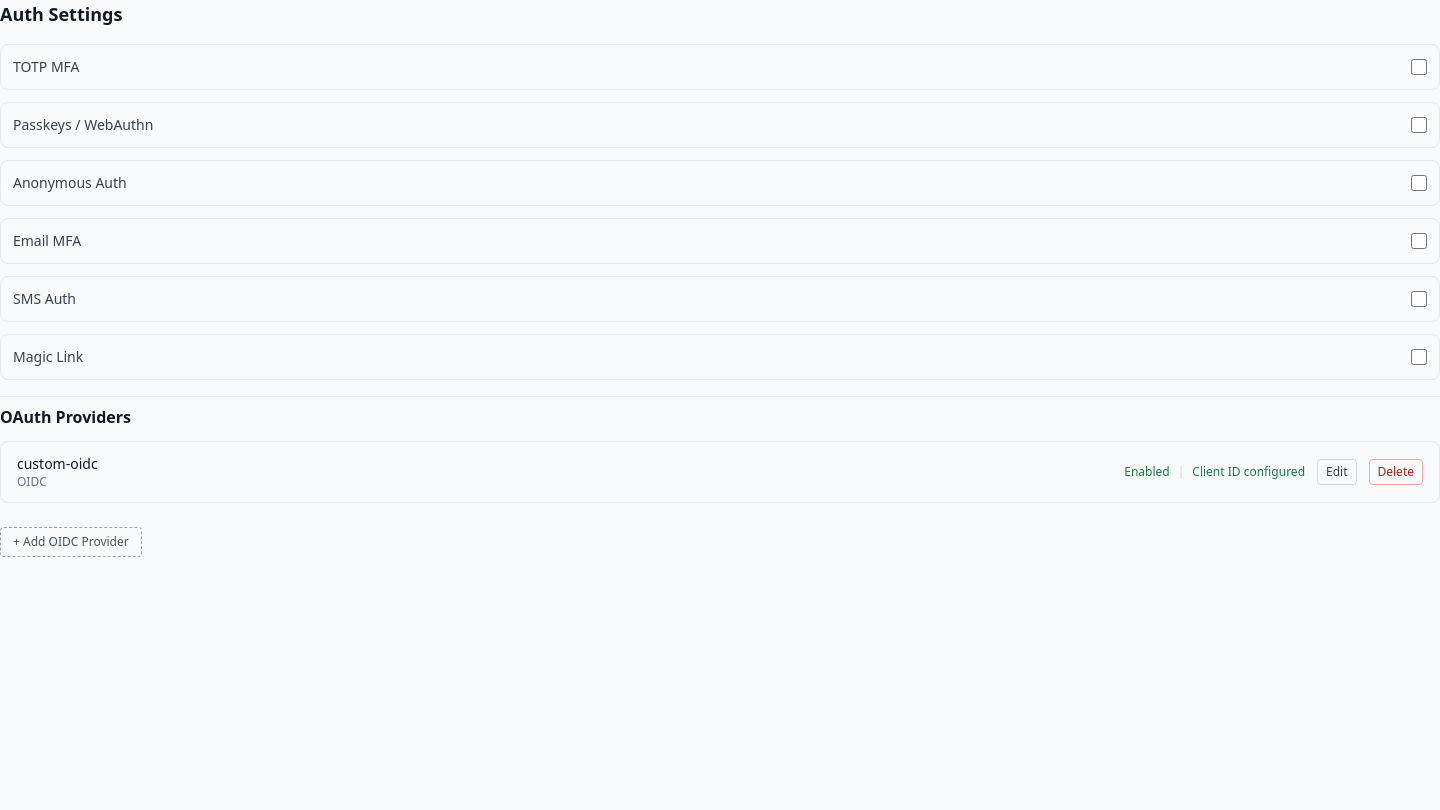
Test case: AuthSettings OIDC deletion › failed delete shows error and keeps row
Click the button with test id "provider-delete-custom-oidc". click: (1396, 472)
box: [1368,459,1423,485]
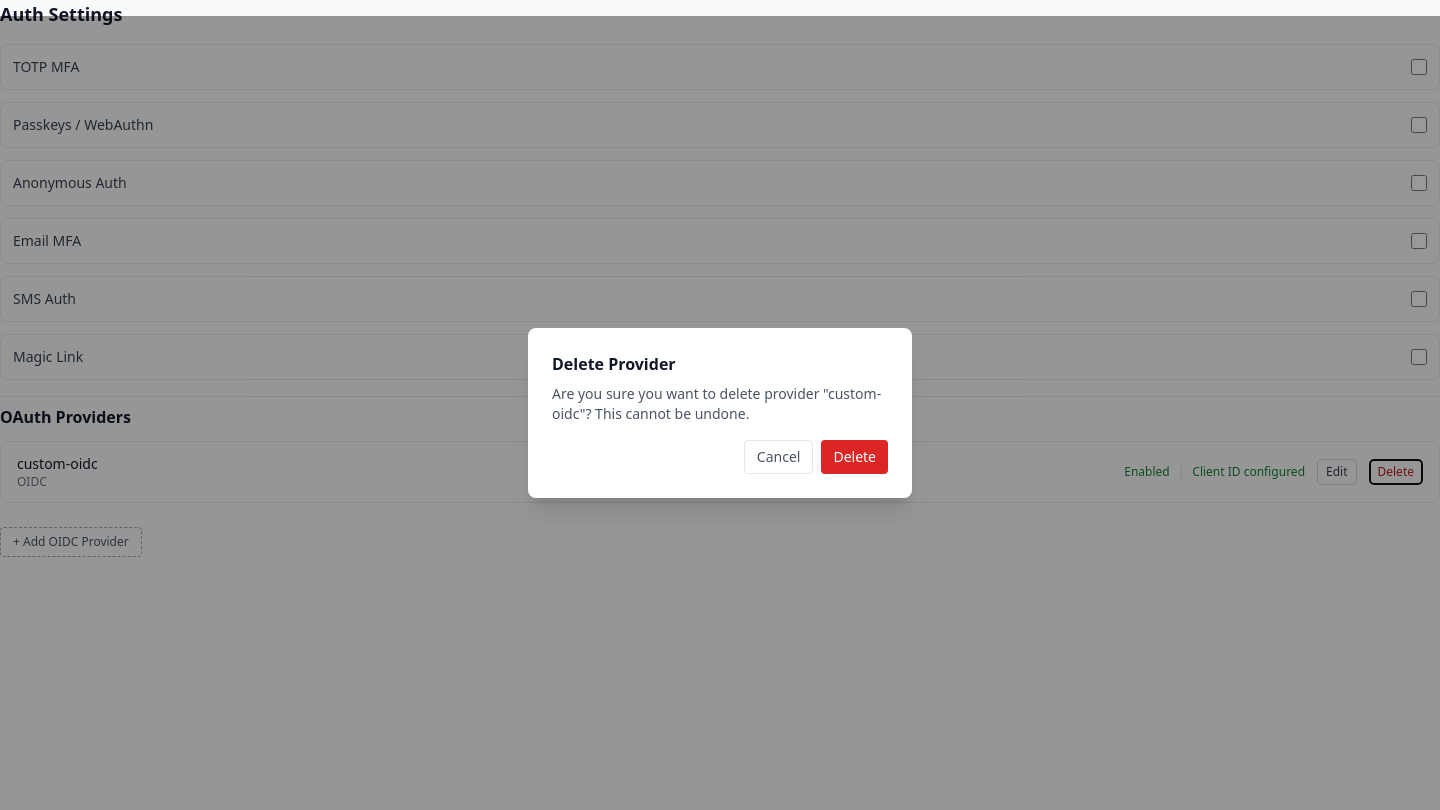
Click the button "Delete". click: (855, 457)
box: [821,440,888,474]
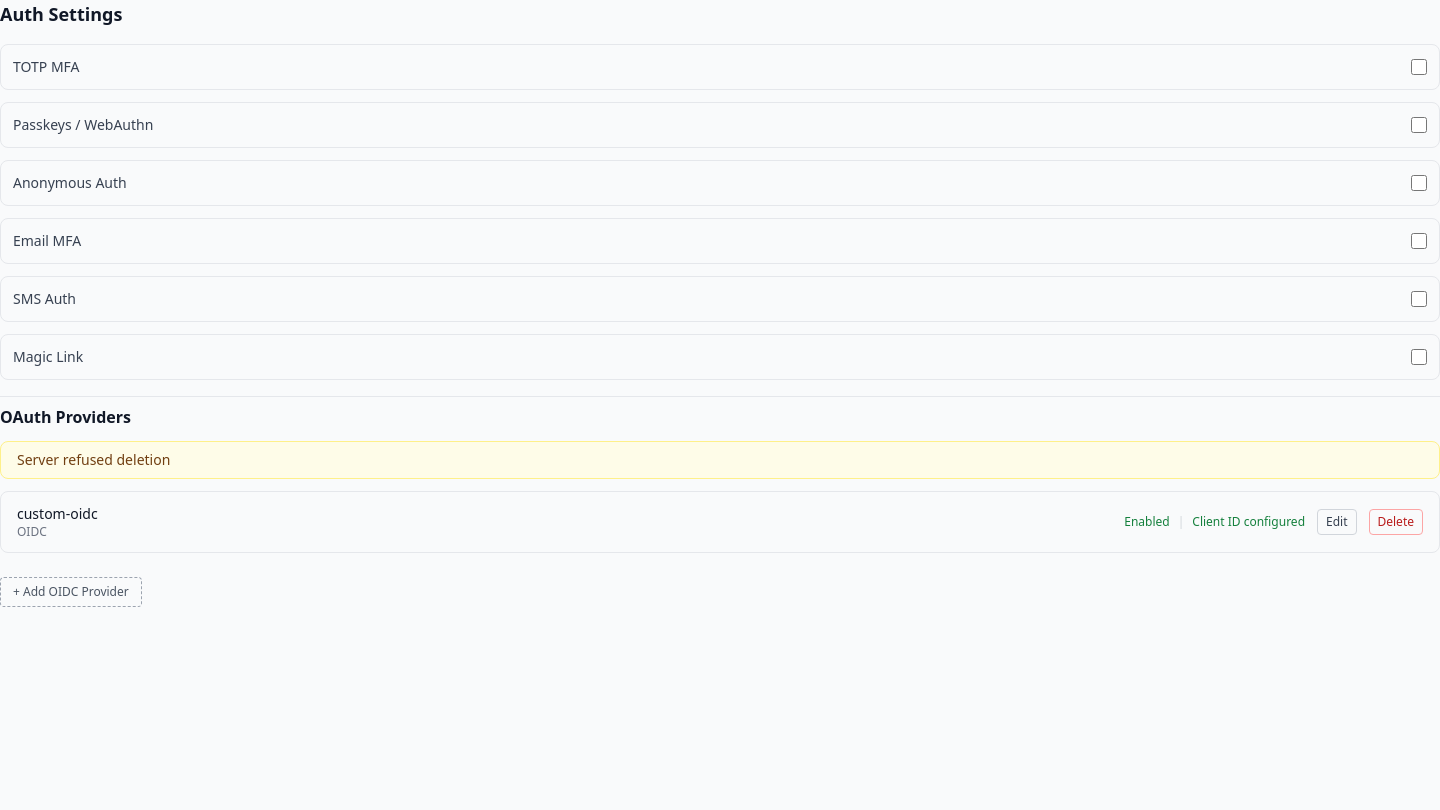
Check: the element with test id "provider-row-custom-oidc" is shown, box [0,491,1439,553]
Check: the text "Server refused deletion" is shown, box [0,441,1439,479]
Check: the dialog is gone
